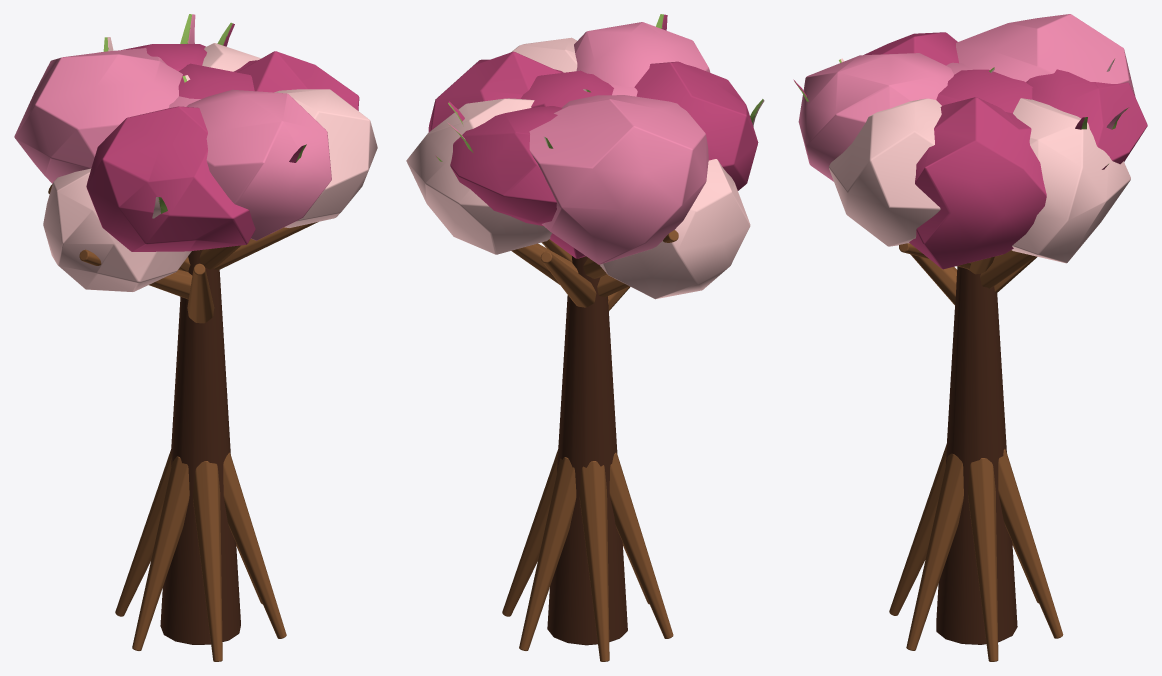
Rendered from tree_sakura.glb.
The picture shows the model from 3 angles, left to right: view 1: azimuth 30°, elevation 25°; view 2: azimuth 150°, elevation 25°; view 3: azimuth 270°, elevation 25°; orthographic projection.
Parts seen in each view (by area): view 1: Flared sculpted trunk.002; view 2: Flared sculpted trunk.002; view 3: Flared sculpted trunk.002.
Boxes of the visible parts, x1=… form: Flared sculpted trunk.002: x1=14, y1=14, x2=377, y2=661; Flared sculpted trunk.002: x1=406, y1=14, x2=764, y2=661; Flared sculpted trunk.002: x1=793, y1=14, x2=1147, y2=661.
Size of the model in its own units: 3.02 by 5.51 by 3.08.
